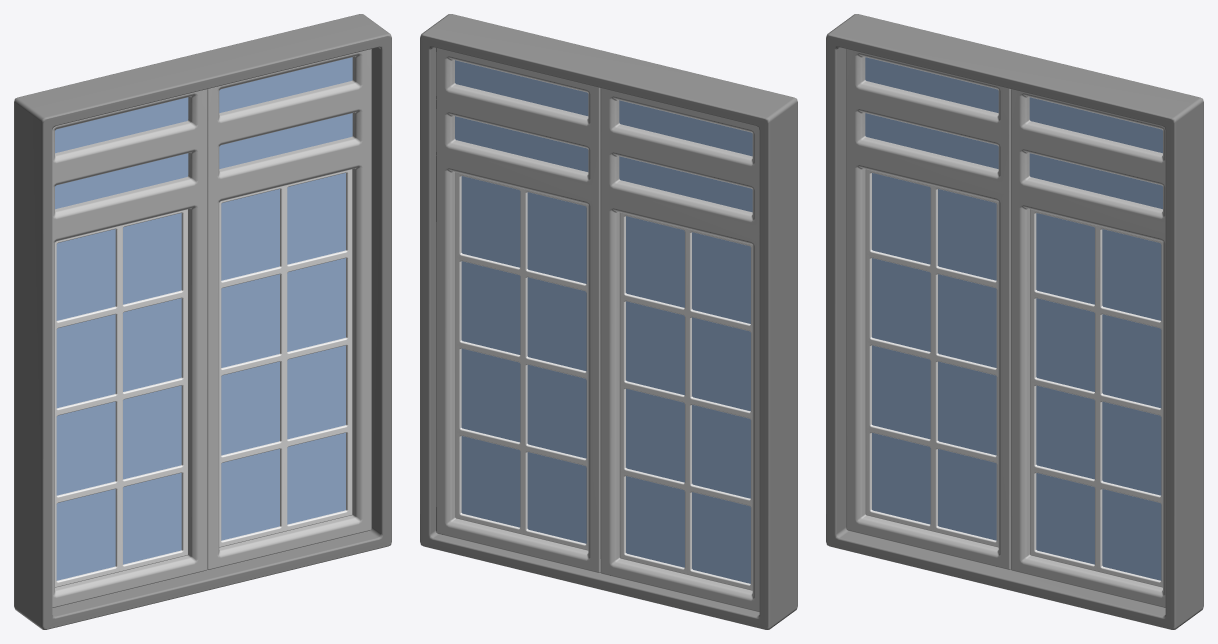
The model's file is right_window.fbx.
The picture shows the model from 3 angles, left to right: view 1: azimuth 30°, elevation 25°; view 2: azimuth 150°, elevation 25°; view 3: azimuth 330°, elevation 25°; orthographic projection.
Parts seen in each view (by area): view 1: wind_e_008_glass_0, wind_e_008_grey_0, wind_e_008_dark_grey_0, wind_e_008_white_0; view 2: wind_e_008_glass_0, wind_e_008_grey_0, wind_e_008_dark_grey_0, wind_e_008_white_0; view 3: wind_e_008_glass_0, wind_e_008_grey_0, wind_e_008_dark_grey_0, wind_e_008_white_0.
Part boxes in pixels (x1=…): wind_e_008_glass_0: x1=55, y1=57, x2=352, y2=580; wind_e_008_grey_0: x1=52, y1=49, x2=371, y2=607; wind_e_008_dark_grey_0: x1=14, y1=14, x2=391, y2=629; wind_e_008_white_0: x1=55, y1=169, x2=352, y2=587; wind_e_008_glass_0: x1=455, y1=60, x2=752, y2=583; wind_e_008_grey_0: x1=436, y1=48, x2=759, y2=612; wind_e_008_dark_grey_0: x1=420, y1=14, x2=797, y2=629; wind_e_008_white_0: x1=455, y1=172, x2=752, y2=590; wind_e_008_glass_0: x1=865, y1=57, x2=1162, y2=580; wind_e_008_grey_0: x1=846, y1=49, x2=1165, y2=607; wind_e_008_dark_grey_0: x1=826, y1=14, x2=1203, y2=629; wind_e_008_white_0: x1=865, y1=169, x2=1162, y2=587.
Bounding box in the file's own units: 99.93 × 14.42 × 140.
